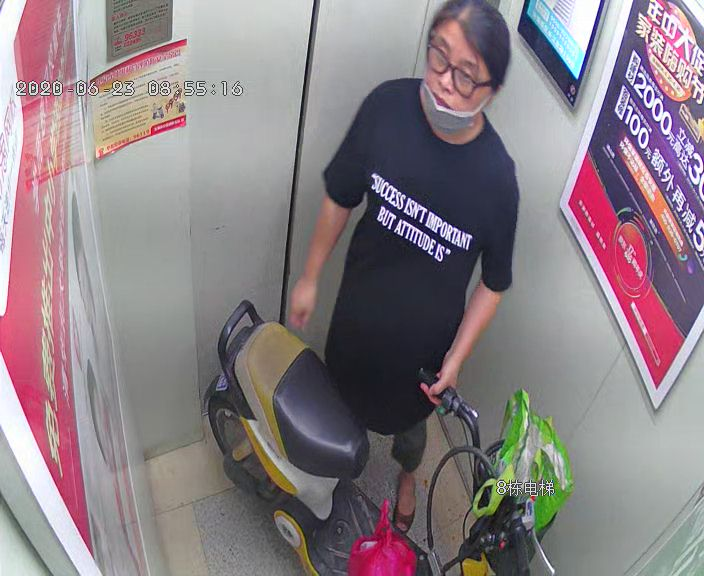Electric-bicycle: (215, 304, 543, 569)
